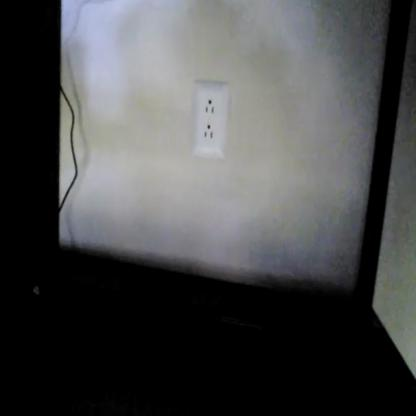OUTLET: (192, 83, 227, 157)
